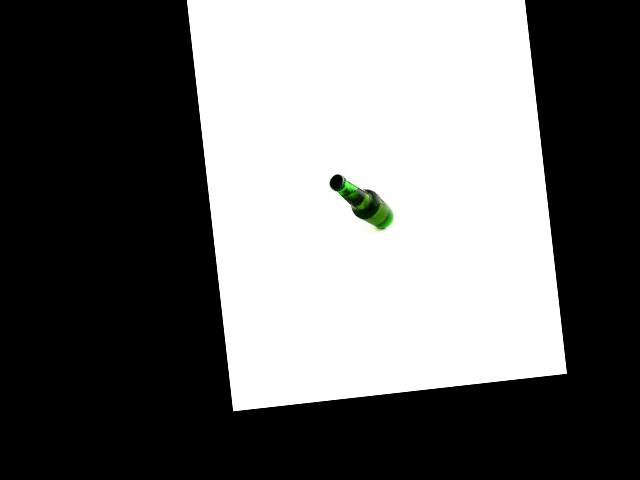beer: (328, 169, 394, 234)
